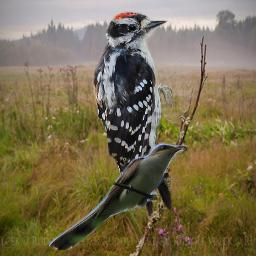Cuckoo: (49, 142, 187, 250)
Woodpecker: (90, 11, 172, 218)
